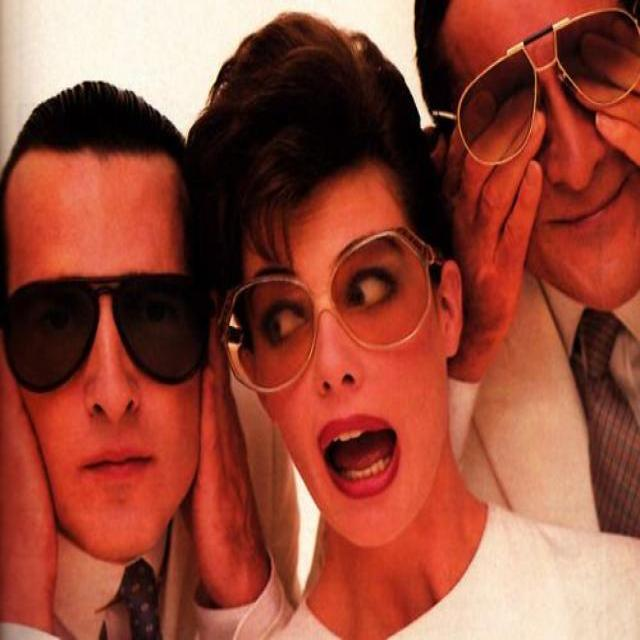glasses: (218, 223, 440, 395), (432, 5, 640, 167), (6, 274, 210, 394)
